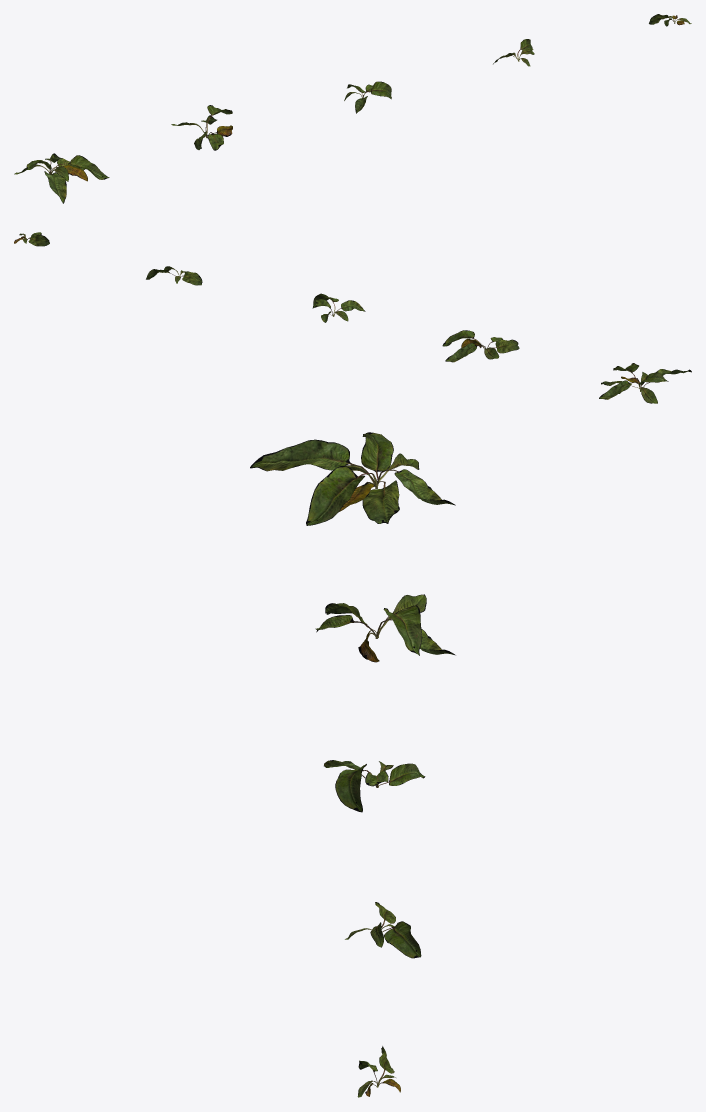
The model's file is weed_plant_02.gltf.
The picture shows the model from 3 angles, top to bottom: view 1: azimuth 30°, elevation 25°; view 2: azimuth 150°, elevation 25°; view 3: azimuth 270°, elevation 25°; orthographic projection. The views are drawn at different scales.
Parts seen in each view (by area): view 1: weed_plant_02_a_LOD0, weed_plant_02_b_LOD0, weed_plant_02_c_LOD0, weed_plant_02_d_LOD0; view 2: weed_plant_02_a_LOD0, weed_plant_02_b_LOD0, weed_plant_02_c_LOD0, weed_plant_02_d_LOD0, weed_plant_02_e_LOD0; view 3: weed_plant_02_a_LOD0, weed_plant_02_b_LOD0, weed_plant_02_c_LOD0, weed_plant_02_d_LOD0.
Part boxes in pixels (x1=…): weed_plant_02_a_LOD0: x1=14, y1=153, x2=109, y2=203; weed_plant_02_b_LOD0: x1=171, y1=105, x2=232, y2=150; weed_plant_02_c_LOD0: x1=344, y1=81, x2=391, y2=113; weed_plant_02_d_LOD0: x1=493, y1=39, x2=534, y2=66; weed_plant_02_a_LOD0: x1=599, y1=363, x2=691, y2=403; weed_plant_02_b_LOD0: x1=442, y1=330, x2=519, y2=362; weed_plant_02_c_LOD0: x1=312, y1=293, x2=365, y2=322; weed_plant_02_d_LOD0: x1=146, y1=266, x2=202, y2=285; weed_plant_02_e_LOD0: x1=14, y1=232, x2=49, y2=246; weed_plant_02_a_LOD0: x1=250, y1=432, x2=455, y2=525; weed_plant_02_b_LOD0: x1=315, y1=594, x2=455, y2=662; weed_plant_02_c_LOD0: x1=324, y1=760, x2=425, y2=812; weed_plant_02_d_LOD0: x1=345, y1=902, x2=421, y2=958.
Size of the model in its own units: 2.13 by 0.0751 by 0.2909.
Materials: 1 (1 with a texture image).
